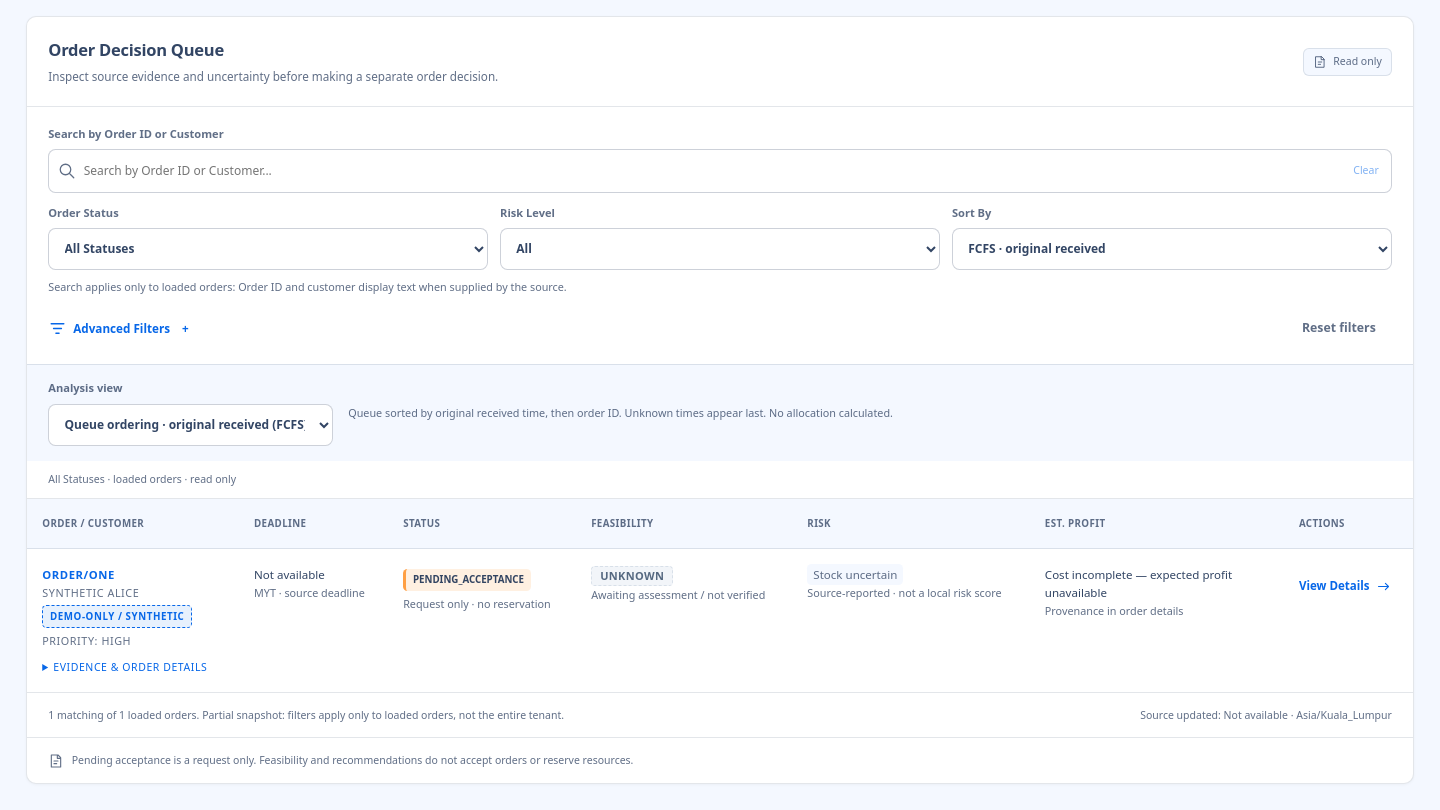
Test: Order Decision Queue › renders supplied pending data, uncertainty and separate MYT timestamps
(page scrolled)
Expected: the table is shown, [27, 460, 1413, 692]
Expected: the text "Synthetic Alice" is shown, [42, 584, 139, 600]
Click the heading "Evidence & order details" at {"x": 130, "y": 667}, box [53, 660, 207, 674]
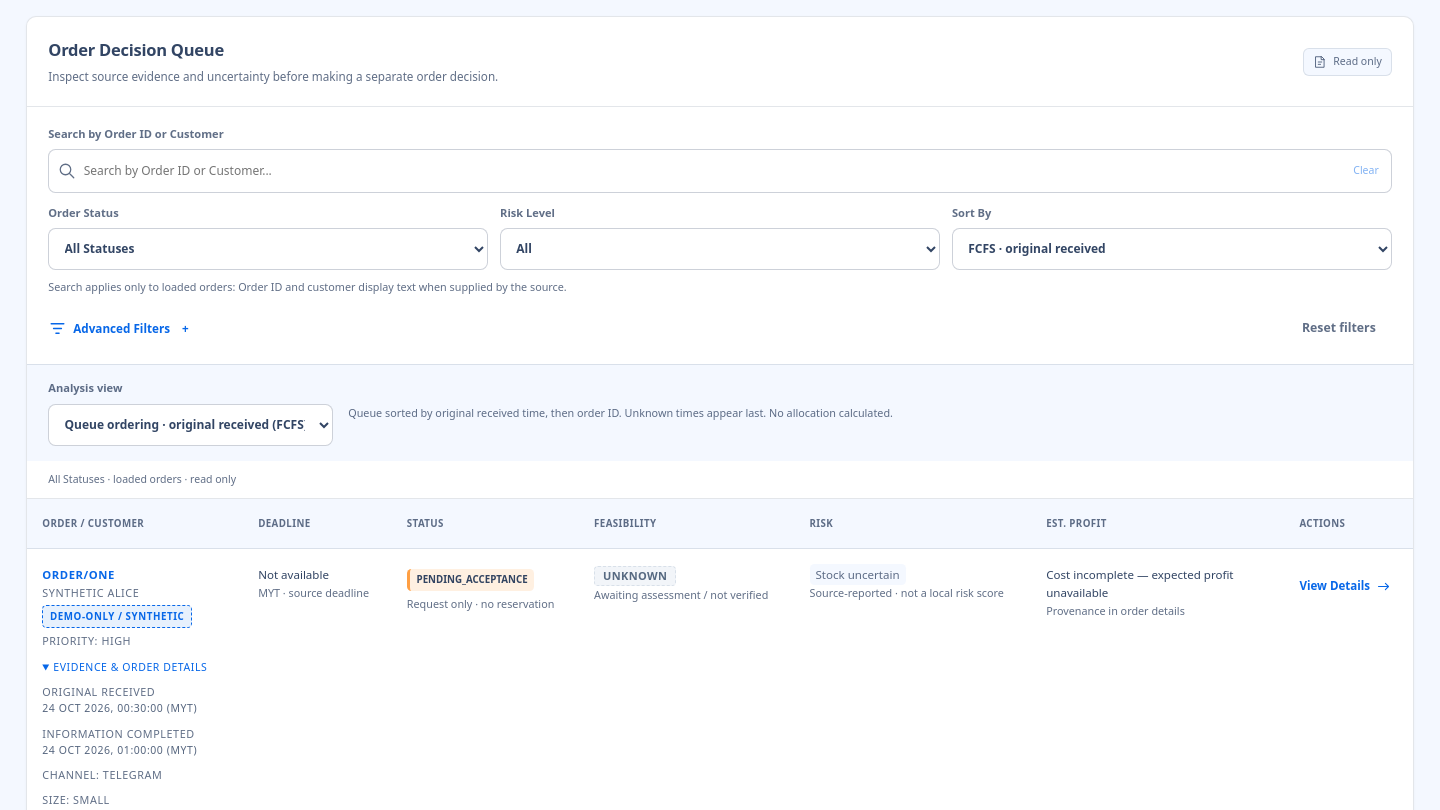
Expected: the text "UNKNOWN" is shown, [594, 566, 676, 586]
Now the text "24 Oct 2026, 00:30:00 (MYT)" is shown, box [42, 702, 197, 716]
Now the text "24 Oct 2026, 01:00:00 (MYT)" is shown, box [42, 743, 197, 757]
